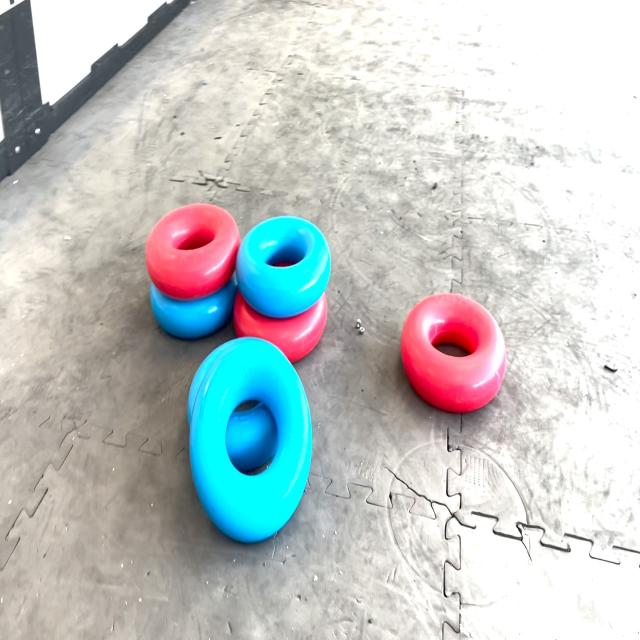Blue-Ring: (190, 338, 312, 542), (236, 216, 331, 318), (150, 273, 238, 338)
Red-Ring: (401, 293, 506, 413), (146, 202, 241, 300), (234, 291, 328, 362)
